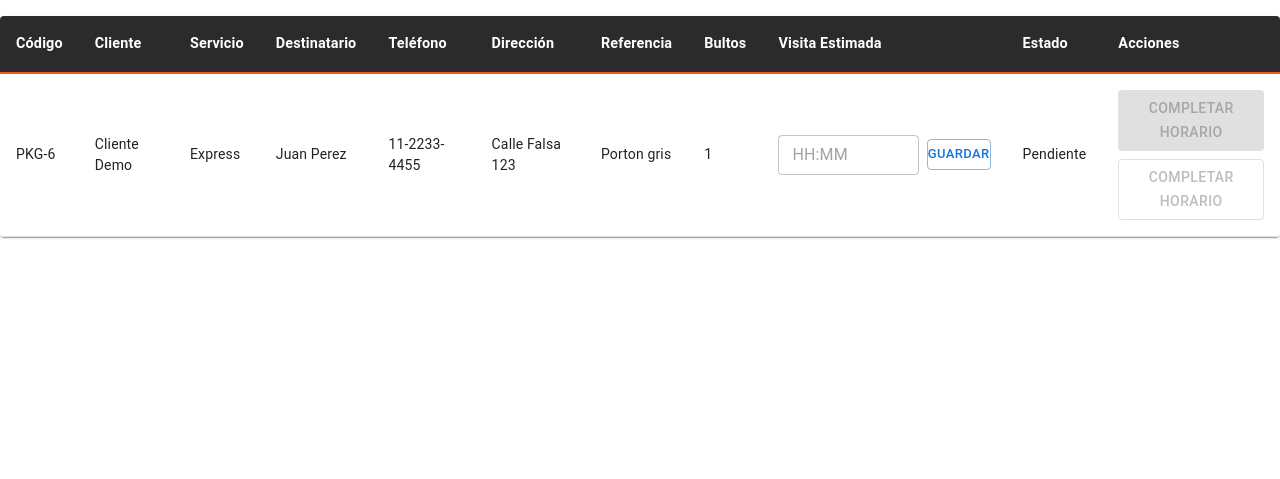
Test: PackagesTable › muestra error si se intenta guardar un horario invalido
The image size is (1280, 479).
Type "25:90" into the field with placeholder "HH:MM" at x=848, y=154, box [778,134,919,174]
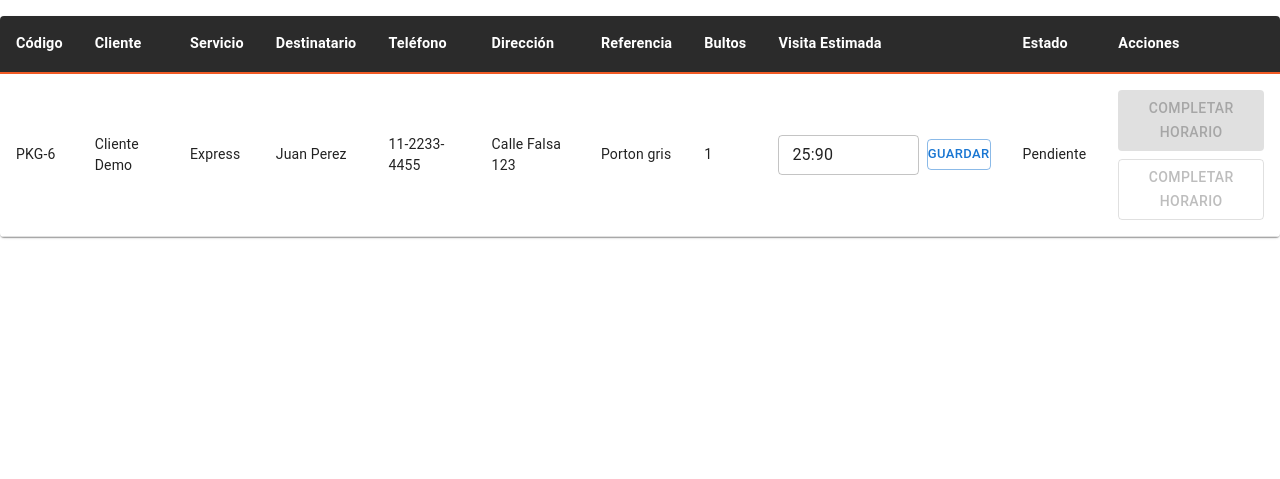
Click the button "Guardar" at x=959, y=154, box [927,139,991,170]
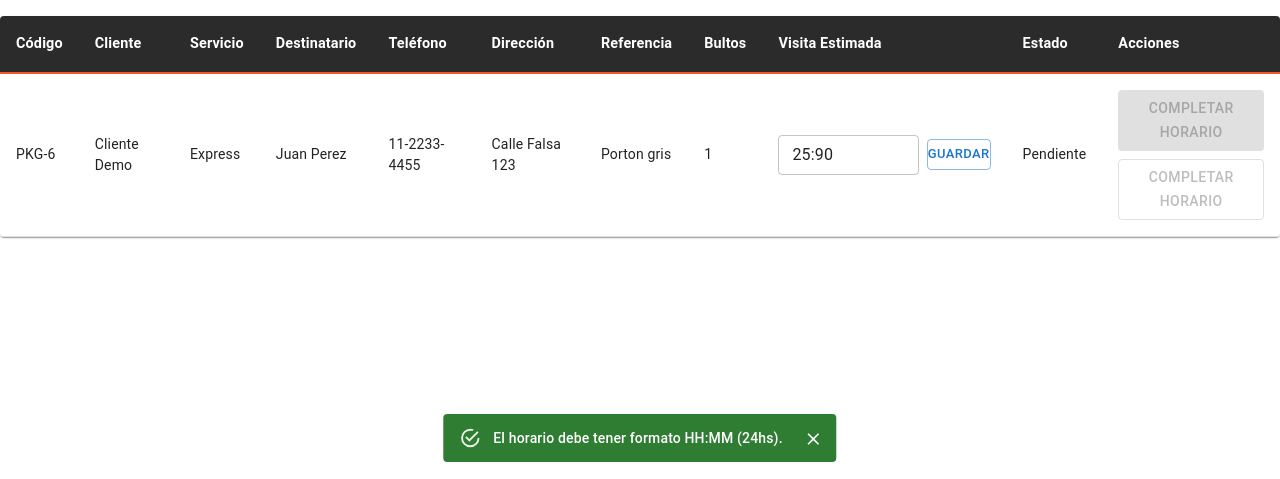
Now the text "El horario debe tener formato HH:MM (24hs)." is shown, box [493,430,783,446]
